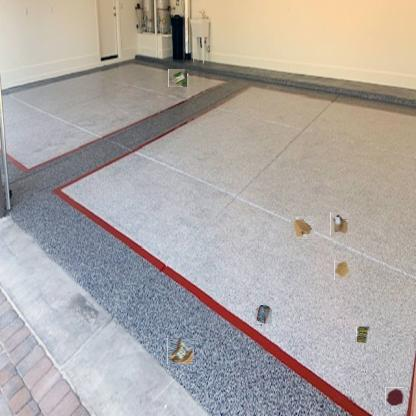dirty: (167, 338, 195, 365), (290, 217, 314, 239), (330, 212, 349, 236), (252, 306, 274, 326), (169, 69, 187, 88), (356, 325, 369, 343)
liquid: (385, 387, 404, 406), (334, 261, 352, 280)
